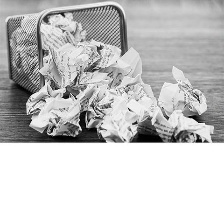book: (2, 6, 223, 144), (20, 77, 85, 137), (156, 64, 219, 117), (91, 91, 141, 145), (162, 105, 214, 144)
